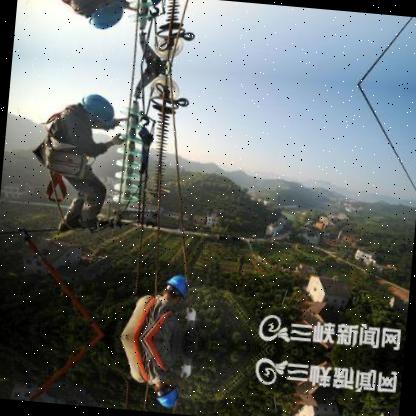capacete: (78, 88, 118, 130), (166, 268, 196, 302)
